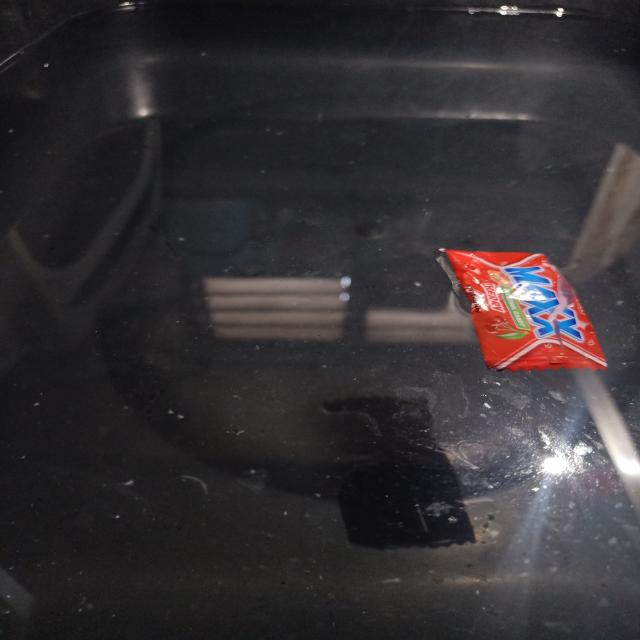Plastic Wrapper: (438, 249, 606, 372)
